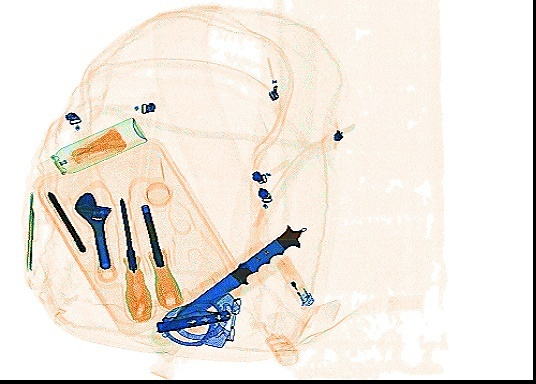handcuffs: (154, 288, 239, 348)
knife: (154, 223, 308, 332), (154, 307, 229, 332)
lighter: (268, 253, 310, 309)
pressure: (35, 116, 144, 175)
